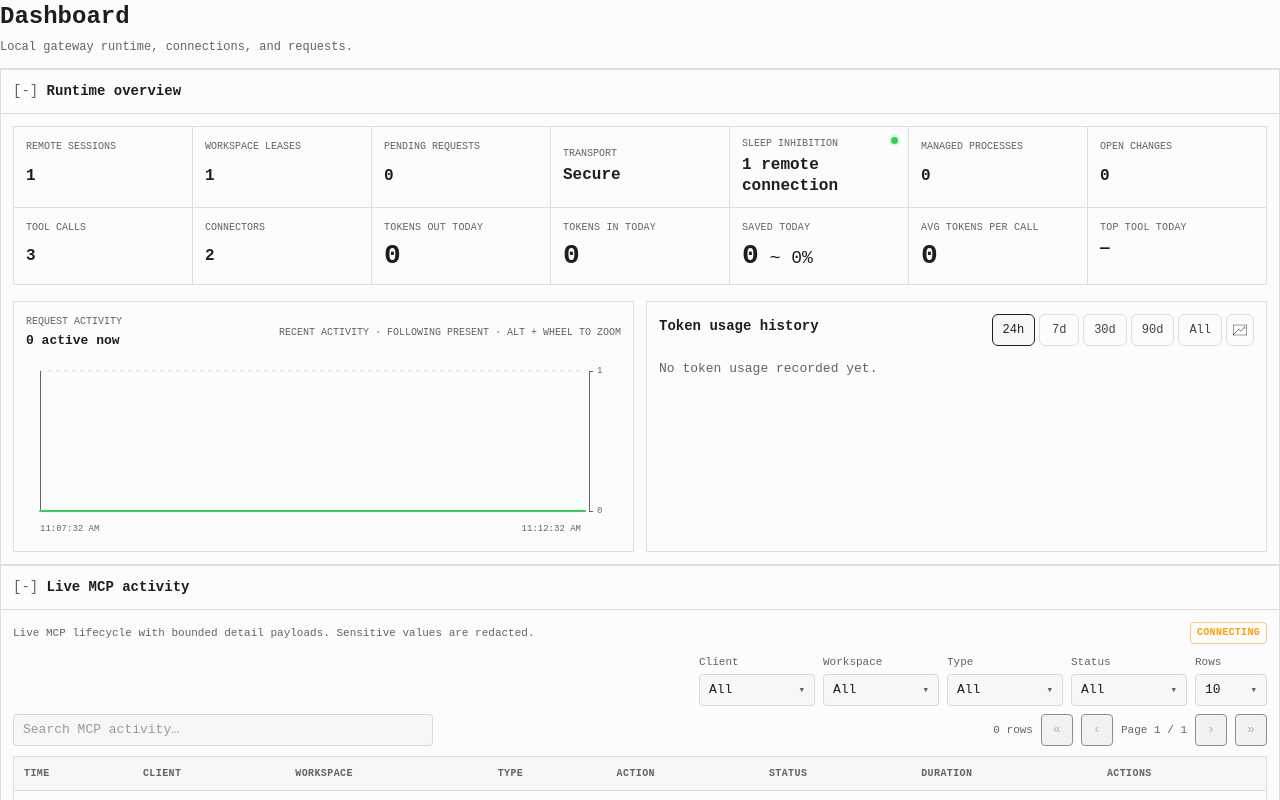
Test: Connections includes OAuth clients and distinguishes them from Bearer connectors
Check: the heading "Dashboard" is shown, box [0,3,130,30]
Click the button "Connectors 2". click: (282, 247)
box: [193,208,372,285]
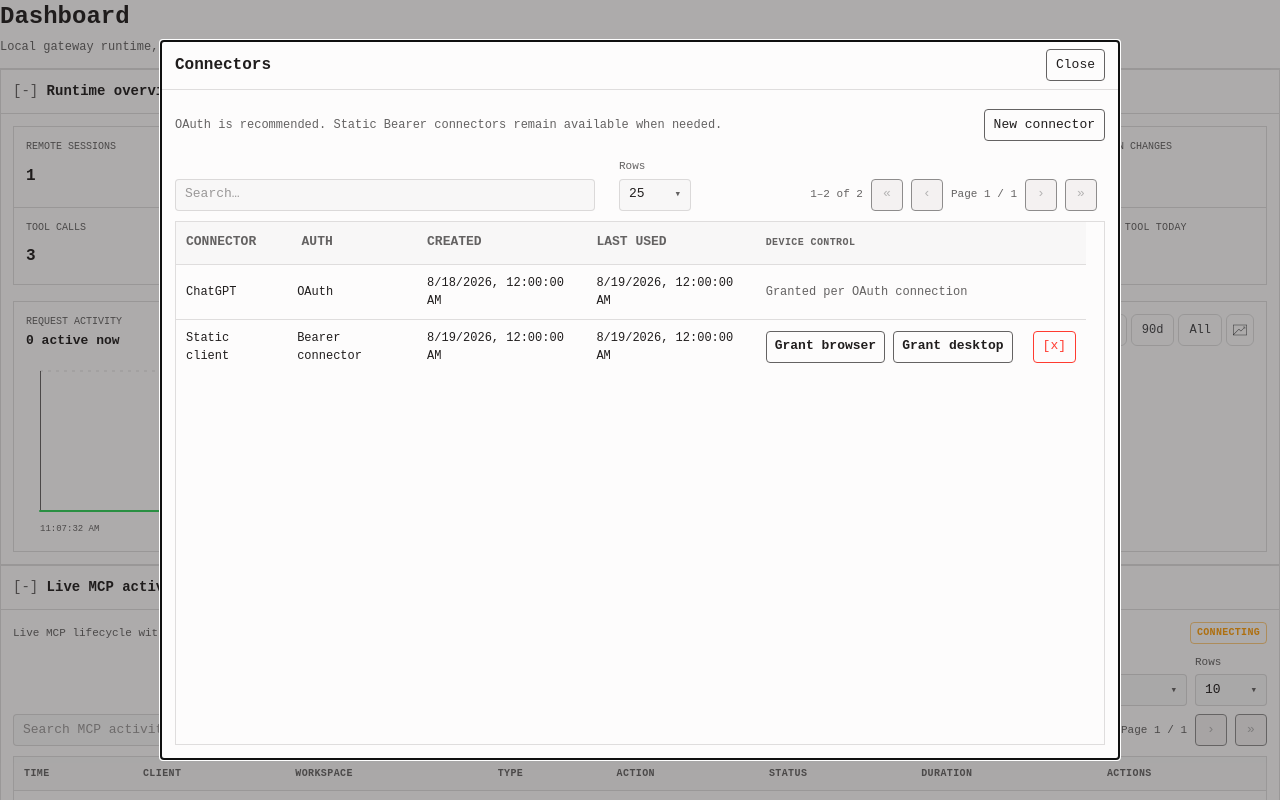
Check: the column heading "Auth" is shown, box [287,222,417,264]
Check: the text "ChatGPT" is shown, box [176,264,287,319]
Check: the text "OAuth" is shown, box [287,264,417,319]
